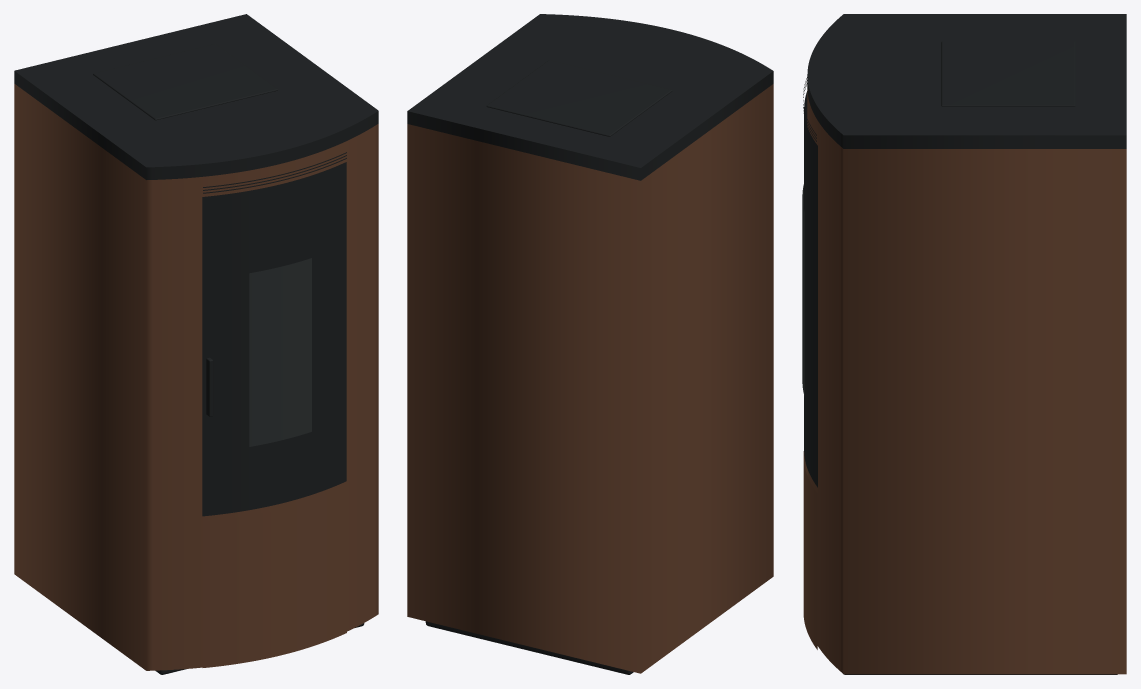
The model's file is nordica-katia-9-50-evo-bronzo.glb.
The picture shows the model from 3 angles, left to right: view 1: azimuth 30°, elevation 25°; view 2: azimuth 150°, elevation 25°; view 3: azimuth 270°, elevation 25°; orthographic projection. The views are drawn at different scales.
Parts seen in each view (by area): view 1: Rivestimento superiore.001, Cornice sportello.001, Rivestimento inferiore.001, Coperchio superiore.001, Pannello inferiore.001, Vetro ceramico curvo.001, Coperchio pellet.001; view 2: Rivestimento superiore.001, Rivestimento inferiore.001, Coperchio superiore.001, Coperchio pellet.001, Zoccolo.001; view 3: Rivestimento superiore.001, Rivestimento inferiore.001, Coperchio superiore.001, Coperchio pellet.001, Cornice sportello.001, Pannello inferiore.001, Vetro ceramico curvo.001.
Boxes of the visible parts, x1,y1,x2,y2 form: Rivestimento superiore.001: (14, 84, 378, 520); Cornice sportello.001: (202, 162, 346, 516); Rivestimento inferiore.001: (14, 424, 378, 670); Coperchio superiore.001: (14, 14, 378, 179); Pannello inferiore.001: (202, 486, 346, 667); Vetro ceramico curvo.001: (249, 258, 311, 446); Coperchio pellet.001: (93, 44, 277, 120); Rivestimento superiore.001: (407, 84, 773, 522); Rivestimento inferiore.001: (407, 426, 773, 673); Coperchio superiore.001: (407, 14, 773, 180); Coperchio pellet.001: (486, 60, 672, 136); Zoccolo.001: (425, 621, 633, 674); Rivestimento superiore.001: (807, 89, 1126, 513); Rivestimento inferiore.001: (807, 469, 1126, 674); Coperchio superiore.001: (807, 14, 1126, 148); Coperchio pellet.001: (941, 41, 1075, 106); Cornice sportello.001: (804, 91, 817, 487); Pannello inferiore.001: (803, 451, 817, 649); Vetro ceramico curvo.001: (802, 184, 804, 397).
Size of the model in its own units: 0.515 by 1.09 by 0.581.
